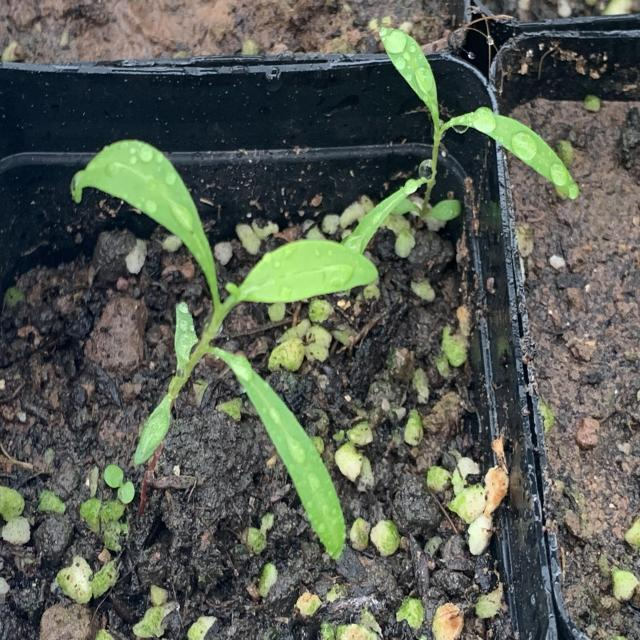white_smart_weed: (97, 114, 408, 613), (365, 17, 574, 256)
